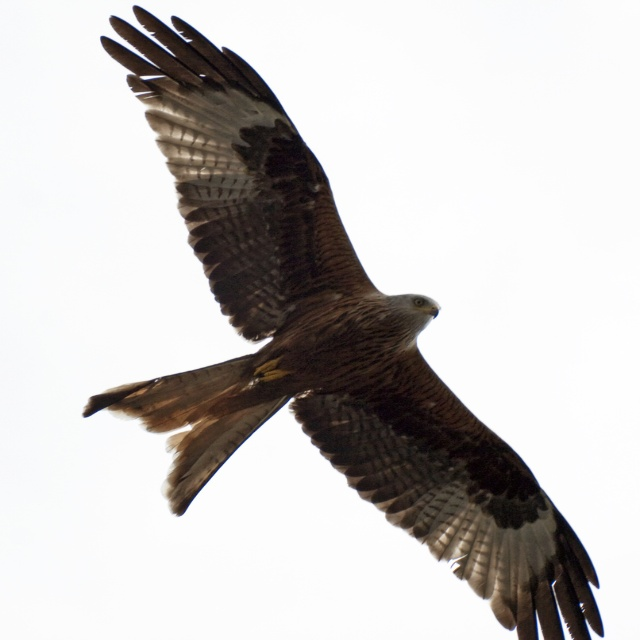Eagle: (79, 4, 605, 640)
